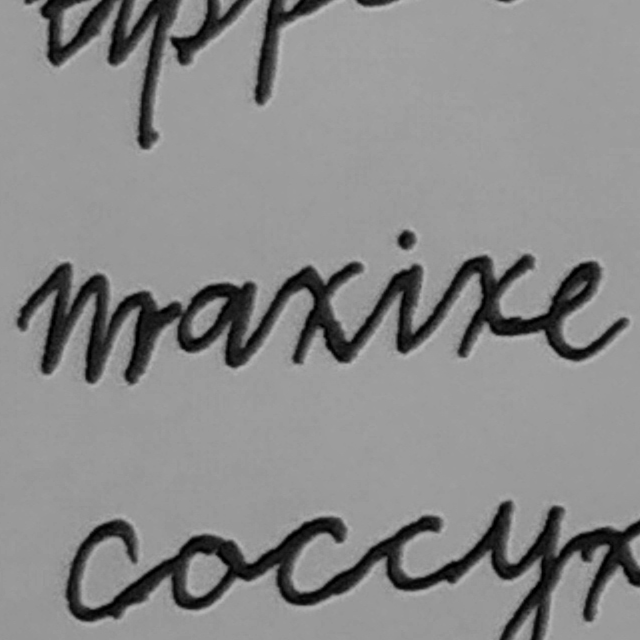a: (173, 276, 263, 370)
e: (541, 254, 634, 365)
i: (377, 223, 435, 363)
m: (34, 257, 165, 389)
x: (444, 247, 538, 364), (274, 255, 369, 370)
